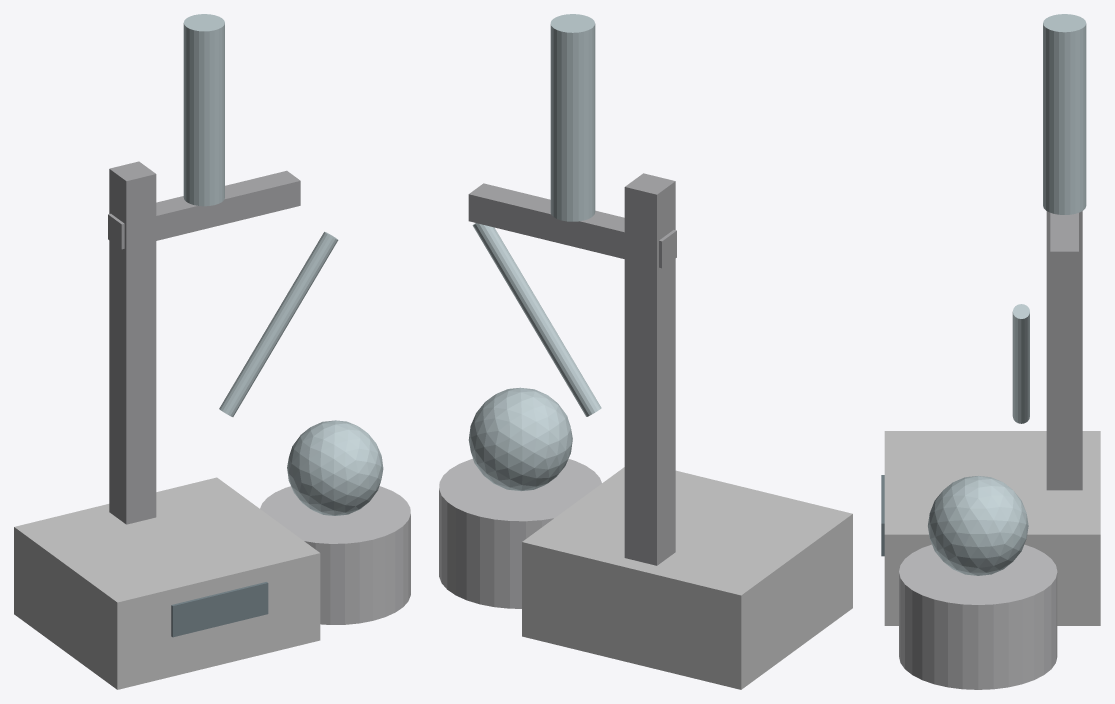
File: sample-rotavap.glb
3 renders of one model, left to right at view 1: azimuth 30°, elevation 25°; view 2: azimuth 150°, elevation 25°; view 3: azimuth 270°, elevation 25°, orthographic. The views are drawn at different scales.
Visible parts, largest first — view 1: geometry_0, geometry_3, geometry_2, geometry_5, geometry_6, geometry_4, geometry_7, geometry_1; view 2: geometry_0, geometry_3, geometry_2, geometry_5, geometry_6, geometry_4, geometry_7; view 3: geometry_0, geometry_2, geometry_5, geometry_3, geometry_6, geometry_7, geometry_4.
Boxes of the visible parts, left/top/right/bottom form: geometry_0: left=14, top=477, right=320, bottom=689; geometry_3: left=109, top=161, right=156, bottom=524; geometry_2: left=260, top=486, right=410, bottom=624; geometry_5: left=183, top=14, right=224, bottom=206; geometry_6: left=287, top=420, right=383, bottom=515; geometry_4: left=108, top=170, right=300, bottom=249; geometry_7: left=219, top=231, right=338, bottom=416; geometry_1: left=171, top=582, right=268, bottom=637; geometry_0: left=522, top=467, right=852, bottom=689; geometry_3: left=624, top=173, right=675, bottom=565; geometry_2: left=439, top=459, right=601, bottom=608; geometry_5: left=550, top=14, right=595, bottom=221; geometry_6: left=468, top=387, right=572, bottom=491; geometry_4: left=468, top=183, right=676, bottom=268; geometry_7: left=472, top=223, right=601, bottom=416; geometry_0: left=884, top=431, right=1100, bottom=625; geometry_2: left=899, top=544, right=1057, bottom=689; geometry_5: left=1043, top=14, right=1086, bottom=214; geometry_3: left=1046, top=211, right=1082, bottom=490; geometry_6: left=928, top=476, right=1028, bottom=575; geometry_7: left=1012, top=304, right=1029, bottom=423; geometry_4: left=1050, top=213, right=1078, bottom=277.
Size of the model in its own units: 0.55 by 0.9 by 0.3045.
